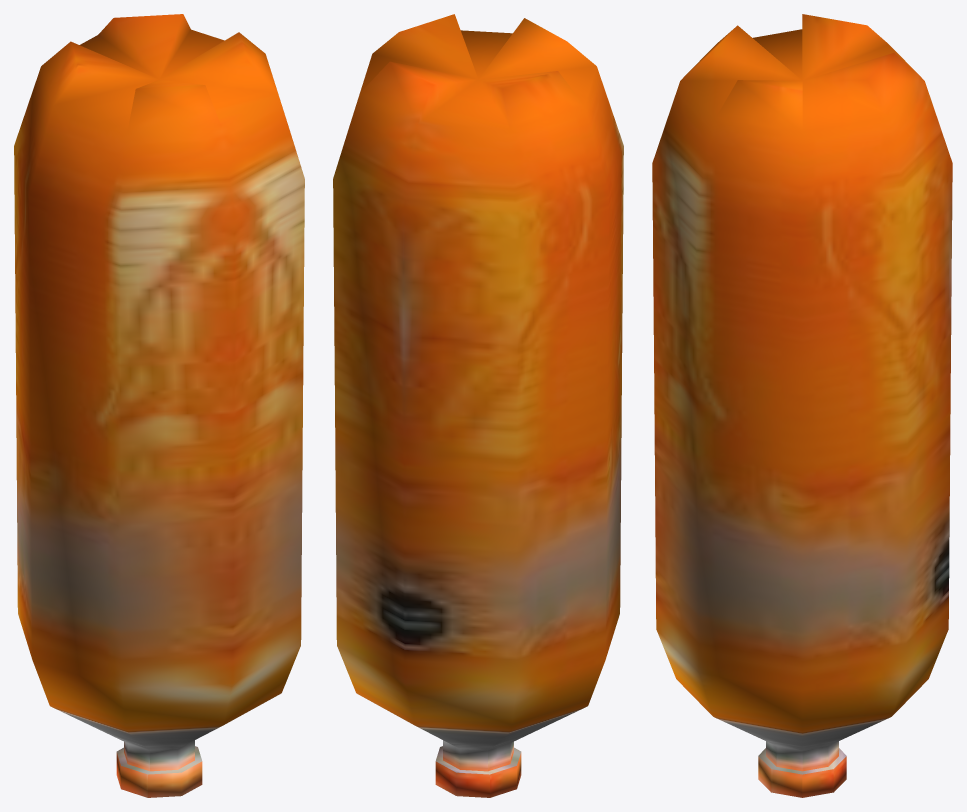
Rendered from Soda_07-col.glb.
The picture shows the model from 3 angles, left to right: view 1: azimuth 30°, elevation 25°; view 2: azimuth 150°, elevation 25°; view 3: azimuth 270°, elevation 25°; orthographic projection.
Visible parts, largest first — view 1: Soda_07-col; view 2: Soda_07-col; view 3: Soda_07-col.
Part boxes in pixels (left/top/right/bottom): Soda_07-col: left=14, top=14, right=304, bottom=797; Soda_07-col: left=333, top=14, right=623, bottom=797; Soda_07-col: left=652, top=14, right=952, bottom=797.
Bounding box in the file's own units: 0.2323 × 0.6202 × 0.2323.
Materials: 1 (1 with a texture image).
